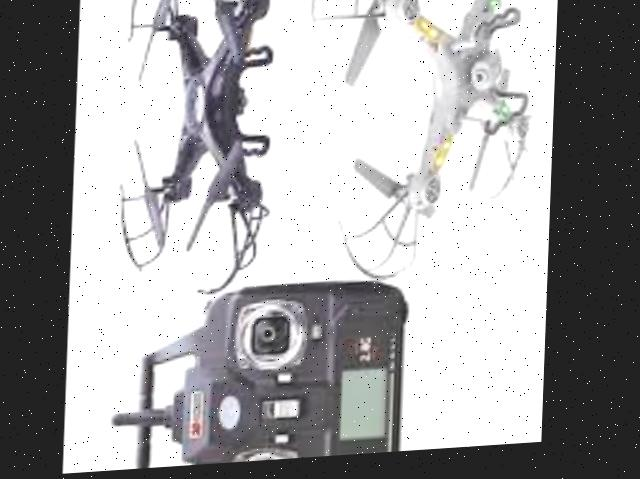drone: (294, 0, 559, 289), (101, 0, 295, 315)
